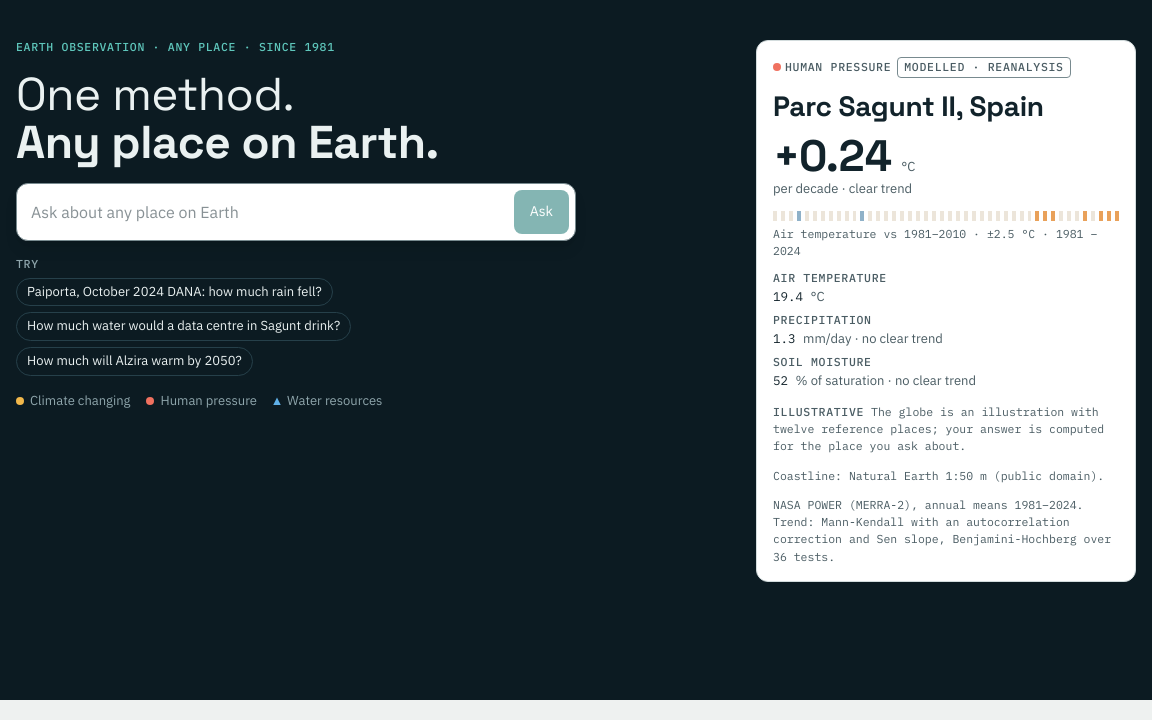
without an answer from the server the cover says so
The width and height of the screenshot is (1152, 720).
Step 1. Type "What changed?" into the search field named "Your question" → (264,212), box [23, 190, 506, 234]
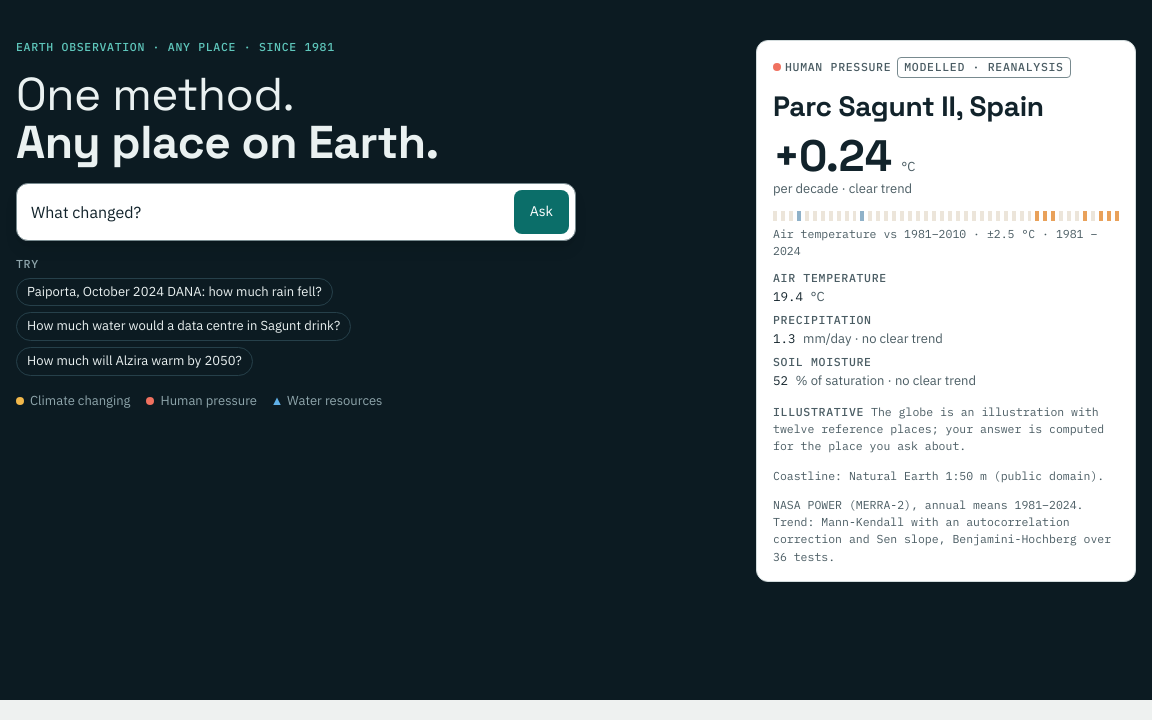
Step 2. Click the button "Ask" → (541,212), box [514, 190, 569, 234]
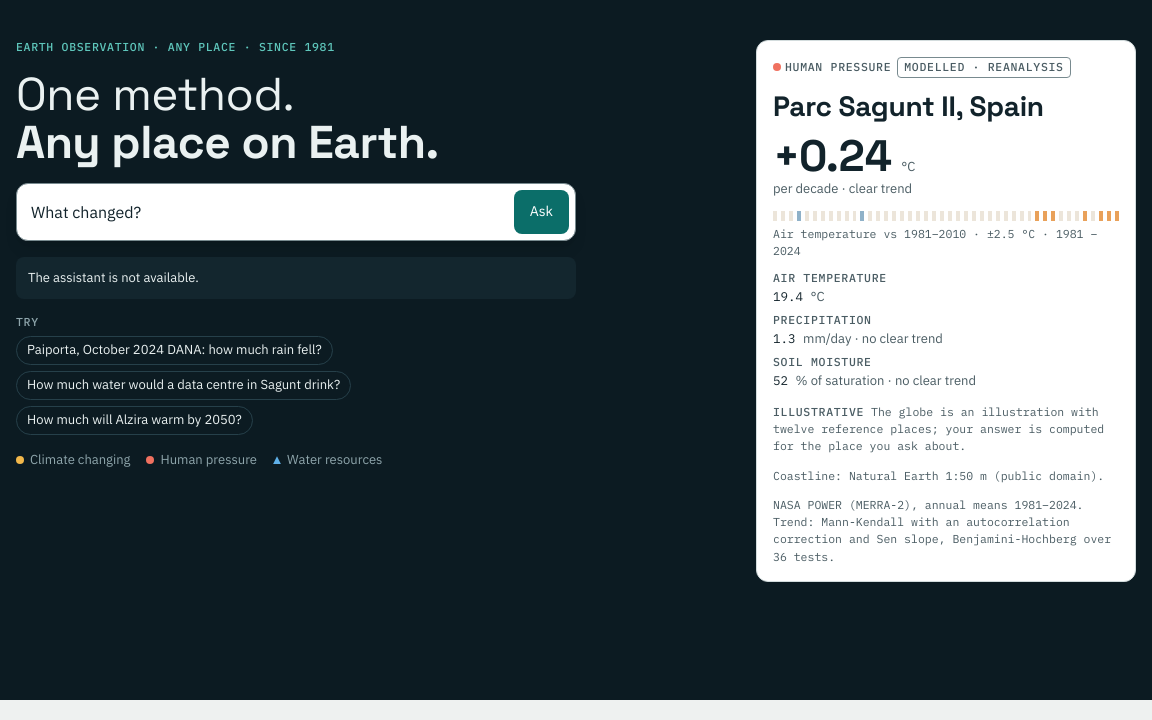
Check: the text "The assistant is not available." is shown, box [16, 257, 576, 299]
